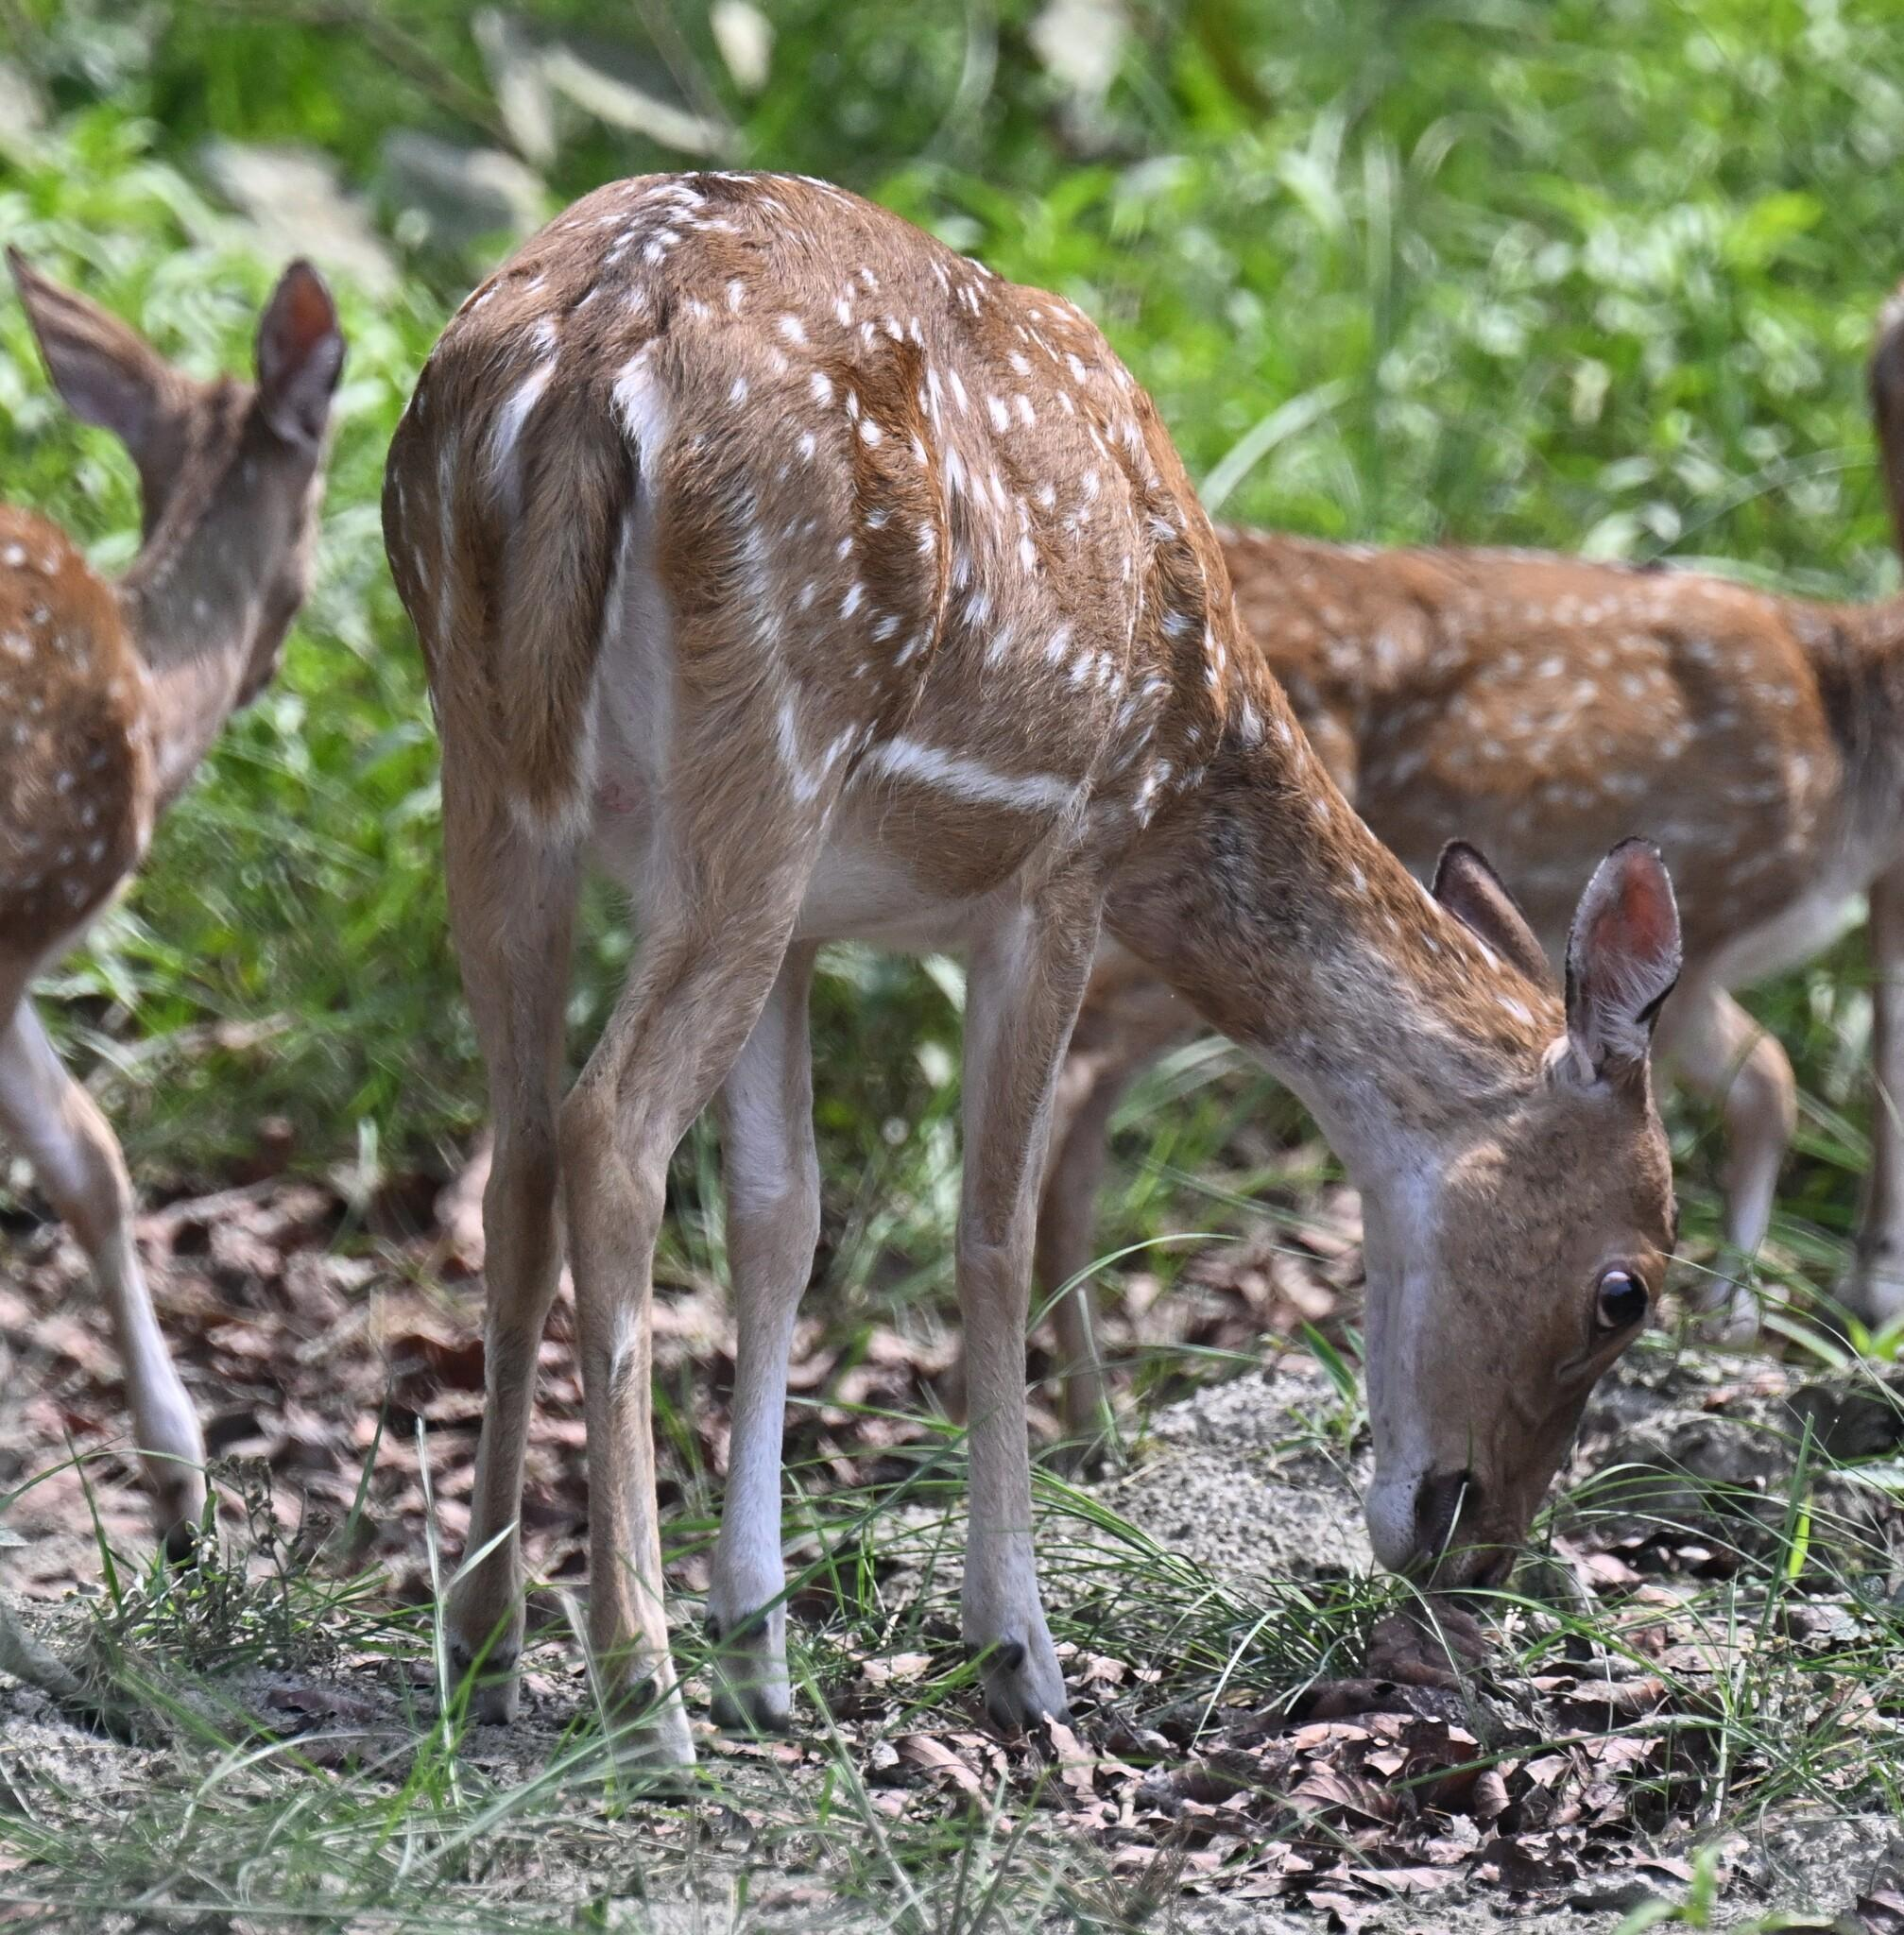Deer: (382, 173, 1676, 1750), (1219, 525, 1902, 1337), (0, 263, 343, 1525)
